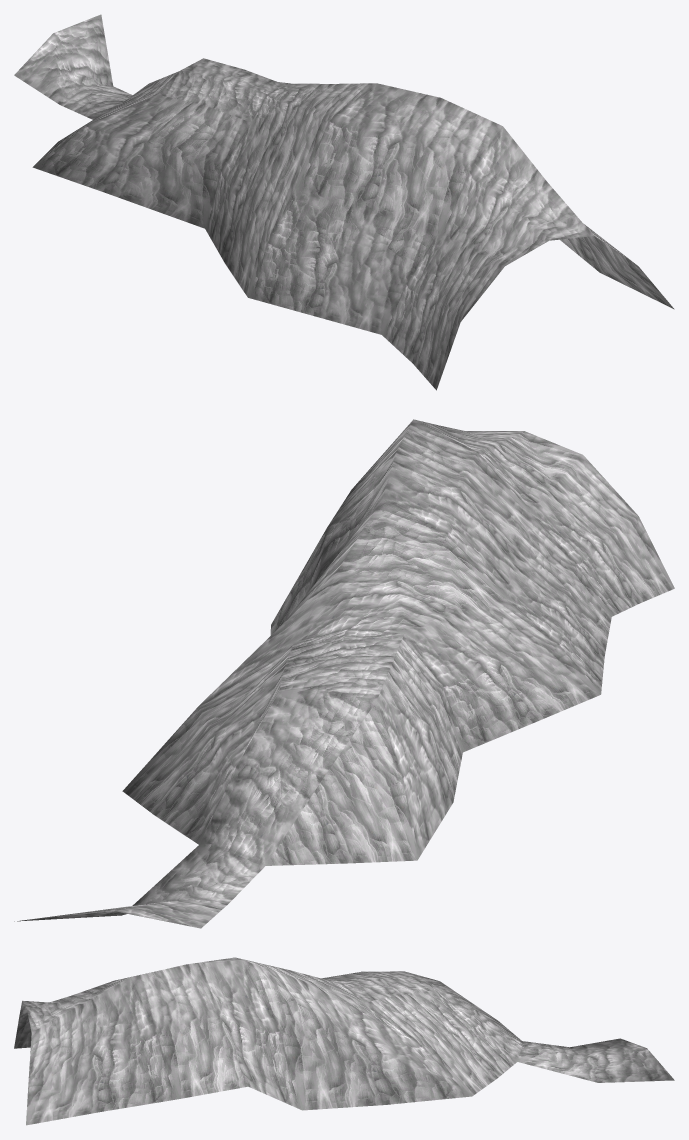
Rendered from SWORDLIGHT20_PS-AREA03_46.fbx.
The picture shows the model from 3 angles, top to bottom: view 1: azimuth 30°, elevation 25°; view 2: azimuth 150°, elevation 25°; view 3: azimuth 270°, elevation 25°; orthographic projection. The views are drawn at different scales.
Parts seen in each view (by area): view 1: SWORDLIGHT20_PS-AREA03_46; view 2: SWORDLIGHT20_PS-AREA03_46; view 3: SWORDLIGHT20_PS-AREA03_46.
Part boxes in pixels (x1,y1,x2,y2): SWORDLIGHT20_PS-AREA03_46: (14,14,674,390); SWORDLIGHT20_PS-AREA03_46: (14,419,674,928); SWORDLIGHT20_PS-AREA03_46: (14,957,674,1125).
Size of the model in its own units: 155850 by 81751 by 364207.
Materials: 1 (1 with a texture image).
